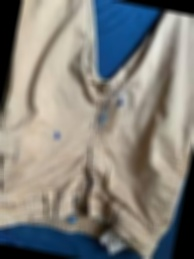ink: (95, 114, 107, 130), (54, 131, 61, 140), (117, 101, 123, 106)
